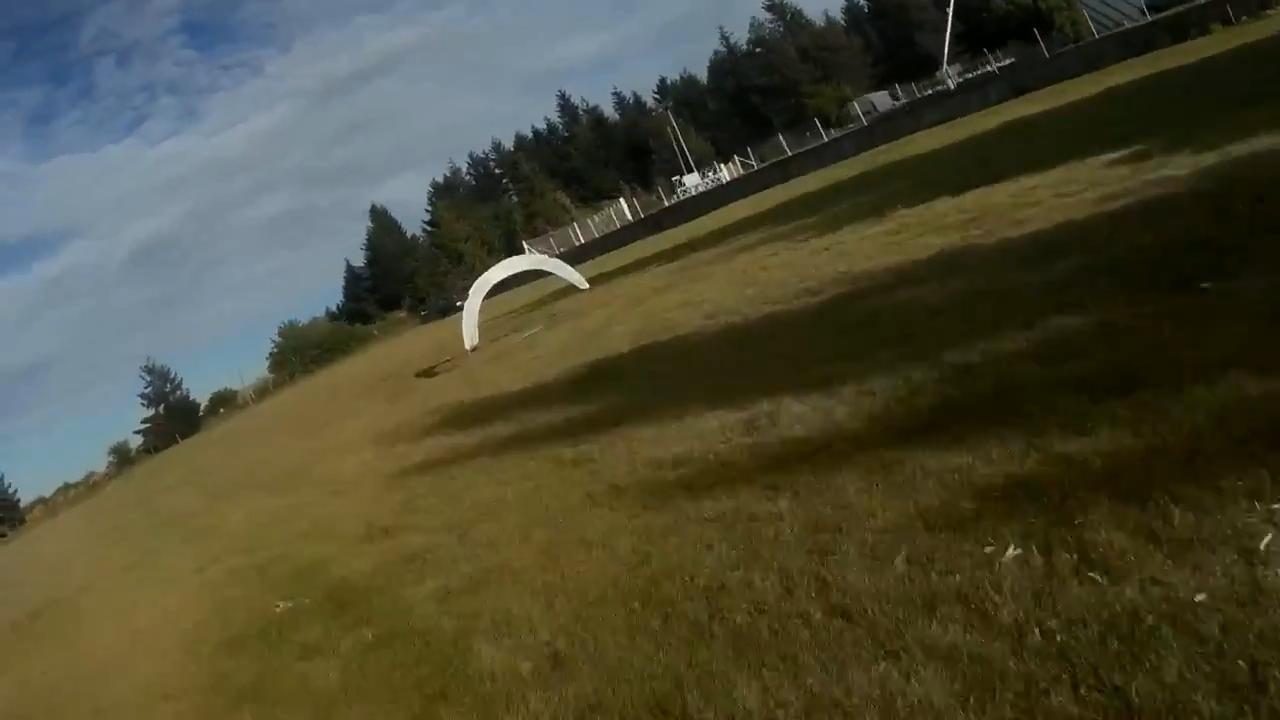gate: (460, 254, 590, 350)
